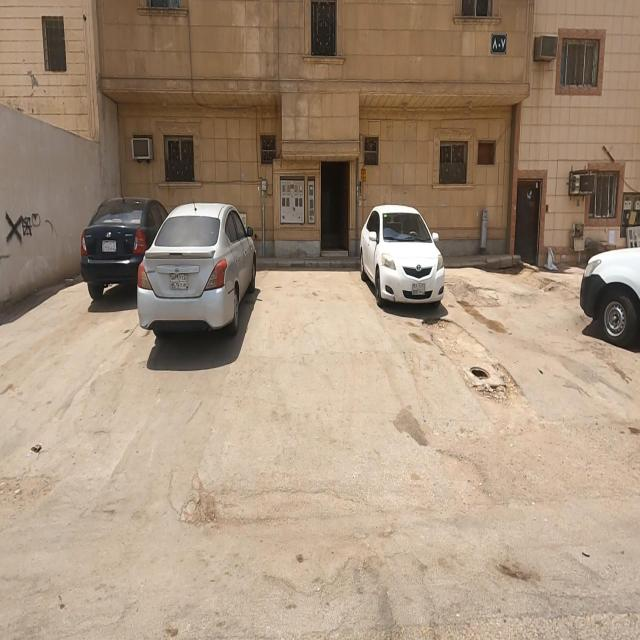Graffiti: (5, 213, 45, 247)
